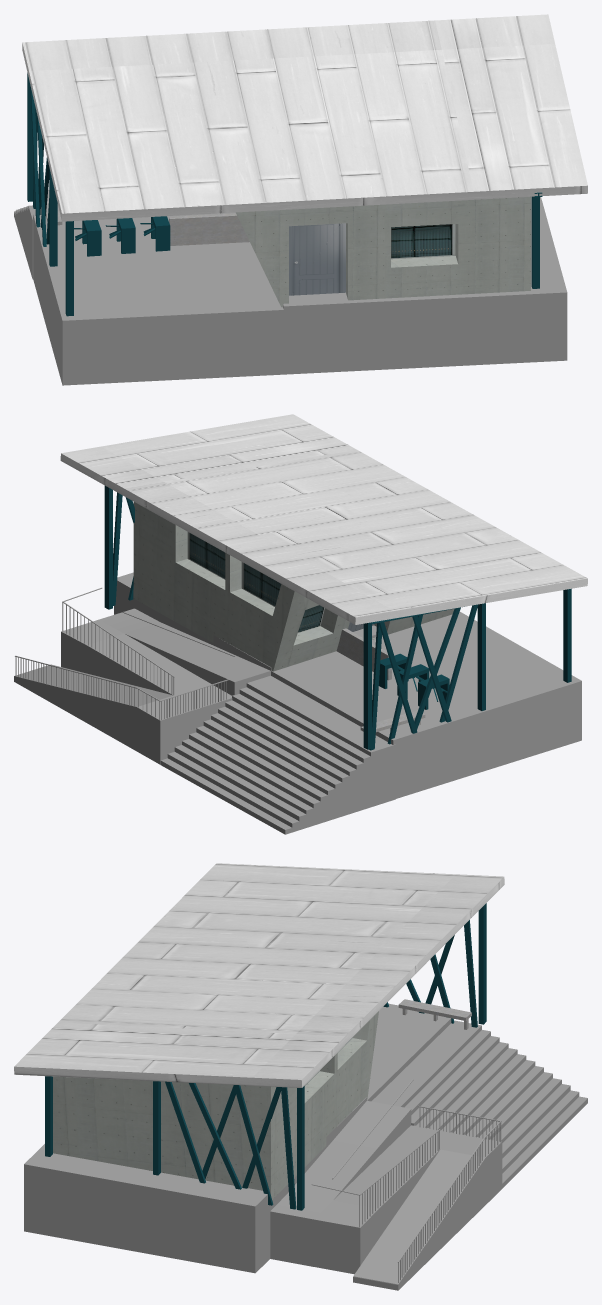
The model's file is porteria peatonal_corregida__tarde.fbx.
3 views of the same model, one above another, from view 1: azimuth 30°, elevation 25°; view 2: azimuth 150°, elevation 25°; view 3: azimuth 270°, elevation 25° (orthographic). The views are drawn at different scales.
Visible parts, largest first — view 1: polySurface2596, RAMPA, polySurface2612, polySurface2595, pCube1, polySurface2600, polySurface2608, polySurface2601, polySurface2602, polySurface2623, polySurface2593, polySurface2610 (+2 smaller); view 2: polySurface2596, RAMPA, pCube1, polySurface2612, polySurface2602, polySurface2607, polySurface2601, polySurface2595, polySurface2600, polySurface2598, polySurface2599, polySurface2619 (+4 smaller); view 3: polySurface2596, RAMPA, polySurface2612, pCube1, polySurface2602, polySurface2607, polySurface2616, polySurface2611, polySurface2606, polySurface2618, polySurface2614, polySurface2605 (+3 smaller).
Boxes of the visible parts, bbox=[...] form: polySurface2596: bbox=[22, 14, 587, 221]; RAMPA: bbox=[33, 196, 567, 385]; polySurface2612: bbox=[236, 196, 530, 307]; polySurface2595: bbox=[169, 213, 249, 245]; pCube1: bbox=[14, 205, 41, 279]; polySurface2600: bbox=[65, 221, 73, 316]; polySurface2608: bbox=[531, 196, 539, 288]; polySurface2601: bbox=[49, 168, 57, 266]; polySurface2602: bbox=[27, 73, 33, 201]; polySurface2623: bbox=[82, 220, 101, 256]; polySurface2593: bbox=[116, 218, 135, 253]; polySurface2610: bbox=[151, 216, 170, 251]; polySurface2596: bbox=[60, 414, 587, 624]; RAMPA: bbox=[14, 572, 581, 798]; pCube1: bbox=[160, 675, 395, 834]; polySurface2612: bbox=[133, 502, 454, 671]; polySurface2602: bbox=[363, 622, 371, 749]; polySurface2607: bbox=[104, 485, 112, 609]; polySurface2601: bbox=[477, 603, 485, 710]; polySurface2595: bbox=[336, 628, 391, 680]; polySurface2600: bbox=[563, 588, 571, 682]; polySurface2598: bbox=[414, 607, 460, 729]; polySurface2599: bbox=[378, 622, 417, 733]; polySurface2619: bbox=[439, 604, 478, 722]; polySurface2596: bbox=[14, 863, 504, 1087]; RAMPA: bbox=[24, 1003, 502, 1290]; polySurface2612: bbox=[53, 1011, 378, 1199]; pCube1: bbox=[371, 1020, 587, 1188]; polySurface2602: bbox=[478, 903, 486, 1024]; polySurface2607: bbox=[297, 1086, 304, 1210]; polySurface2616: bbox=[281, 1087, 296, 1209]; polySurface2611: bbox=[398, 999, 471, 1029]; polySurface2606: bbox=[233, 1085, 273, 1205]; polySurface2618: bbox=[189, 1083, 241, 1189]; polySurface2614: bbox=[153, 1081, 160, 1175]; polySurface2605: bbox=[165, 1081, 205, 1183].
Size of the model in its own units: 247 by 94.7 by 234.
